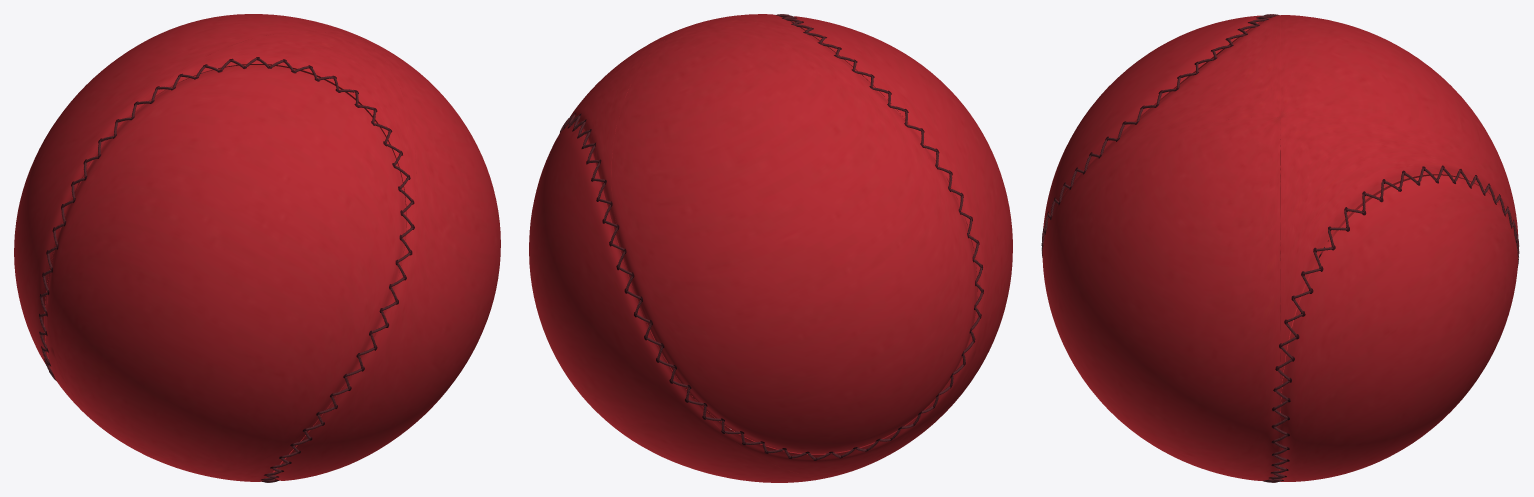
The model's file is jug-red-ball-detail.glb.
3 renders of one model, left to right at view 1: azimuth 30°, elevation 25°; view 2: azimuth 150°, elevation 25°; view 3: azimuth 270°, elevation 25°, orthographic.
Parts seen in each view (by area): view 1: JUG red leather ball - 60mm; view 2: JUG red leather ball - 60mm; view 3: JUG red leather ball - 60mm.
Boxes of the visible parts, x1,y1,x2,y2 form: JUG red leather ball - 60mm: (14,14,500,482); JUG red leather ball - 60mm: (529,14,1012,482); JUG red leather ball - 60mm: (1041,14,1519,482).
Bounding box in the file's own units: 0.06 × 0.0571 × 0.0589.
Materials: 4 (1 with a texture image).
